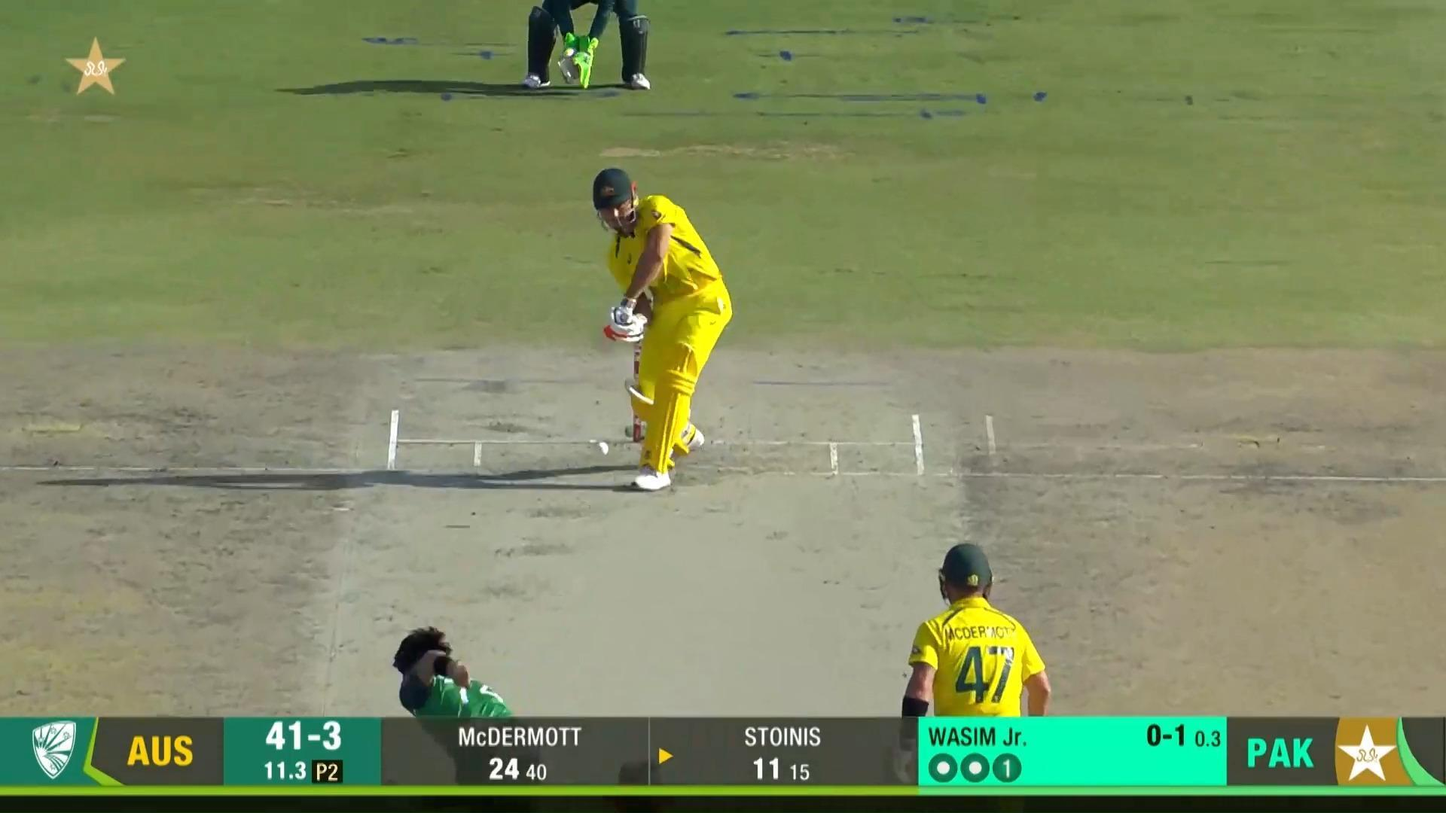BM 1: (592, 165, 735, 493)
BO: (392, 624, 539, 785)
